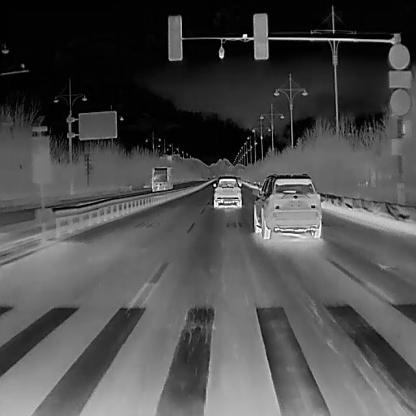car: (252, 170, 321, 240), (212, 176, 241, 208)
truck: (149, 164, 173, 191)
